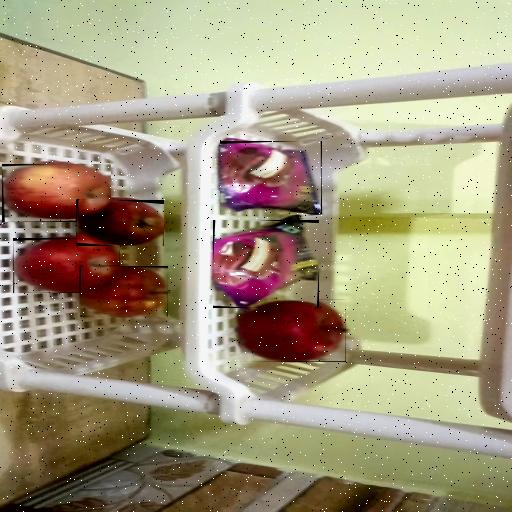Apple: (238, 299, 346, 362), (2, 164, 111, 222), (13, 238, 120, 293), (80, 267, 168, 316), (76, 200, 164, 246)
Choco Pie: (213, 220, 319, 308), (220, 141, 322, 214)
